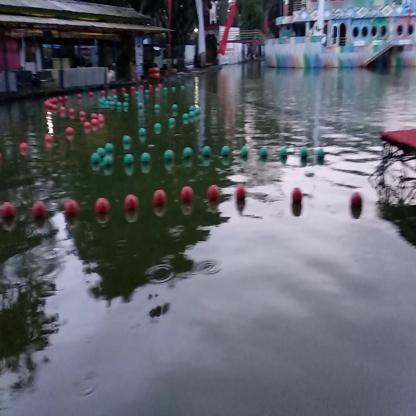green_buoy: (183, 147, 194, 166), (314, 147, 325, 164), (141, 155, 152, 172), (163, 150, 174, 166), (125, 154, 134, 173), (104, 158, 114, 174), (221, 146, 230, 161), (202, 146, 210, 161), (260, 147, 268, 162), (299, 148, 307, 162), (241, 147, 249, 160), (278, 147, 286, 160)
red_buoy: (349, 190, 362, 212), (124, 193, 137, 213), (95, 196, 109, 214), (63, 198, 78, 214), (182, 188, 194, 206), (153, 191, 165, 209), (292, 188, 303, 205), (31, 201, 44, 215), (236, 184, 246, 202), (208, 186, 218, 200)
